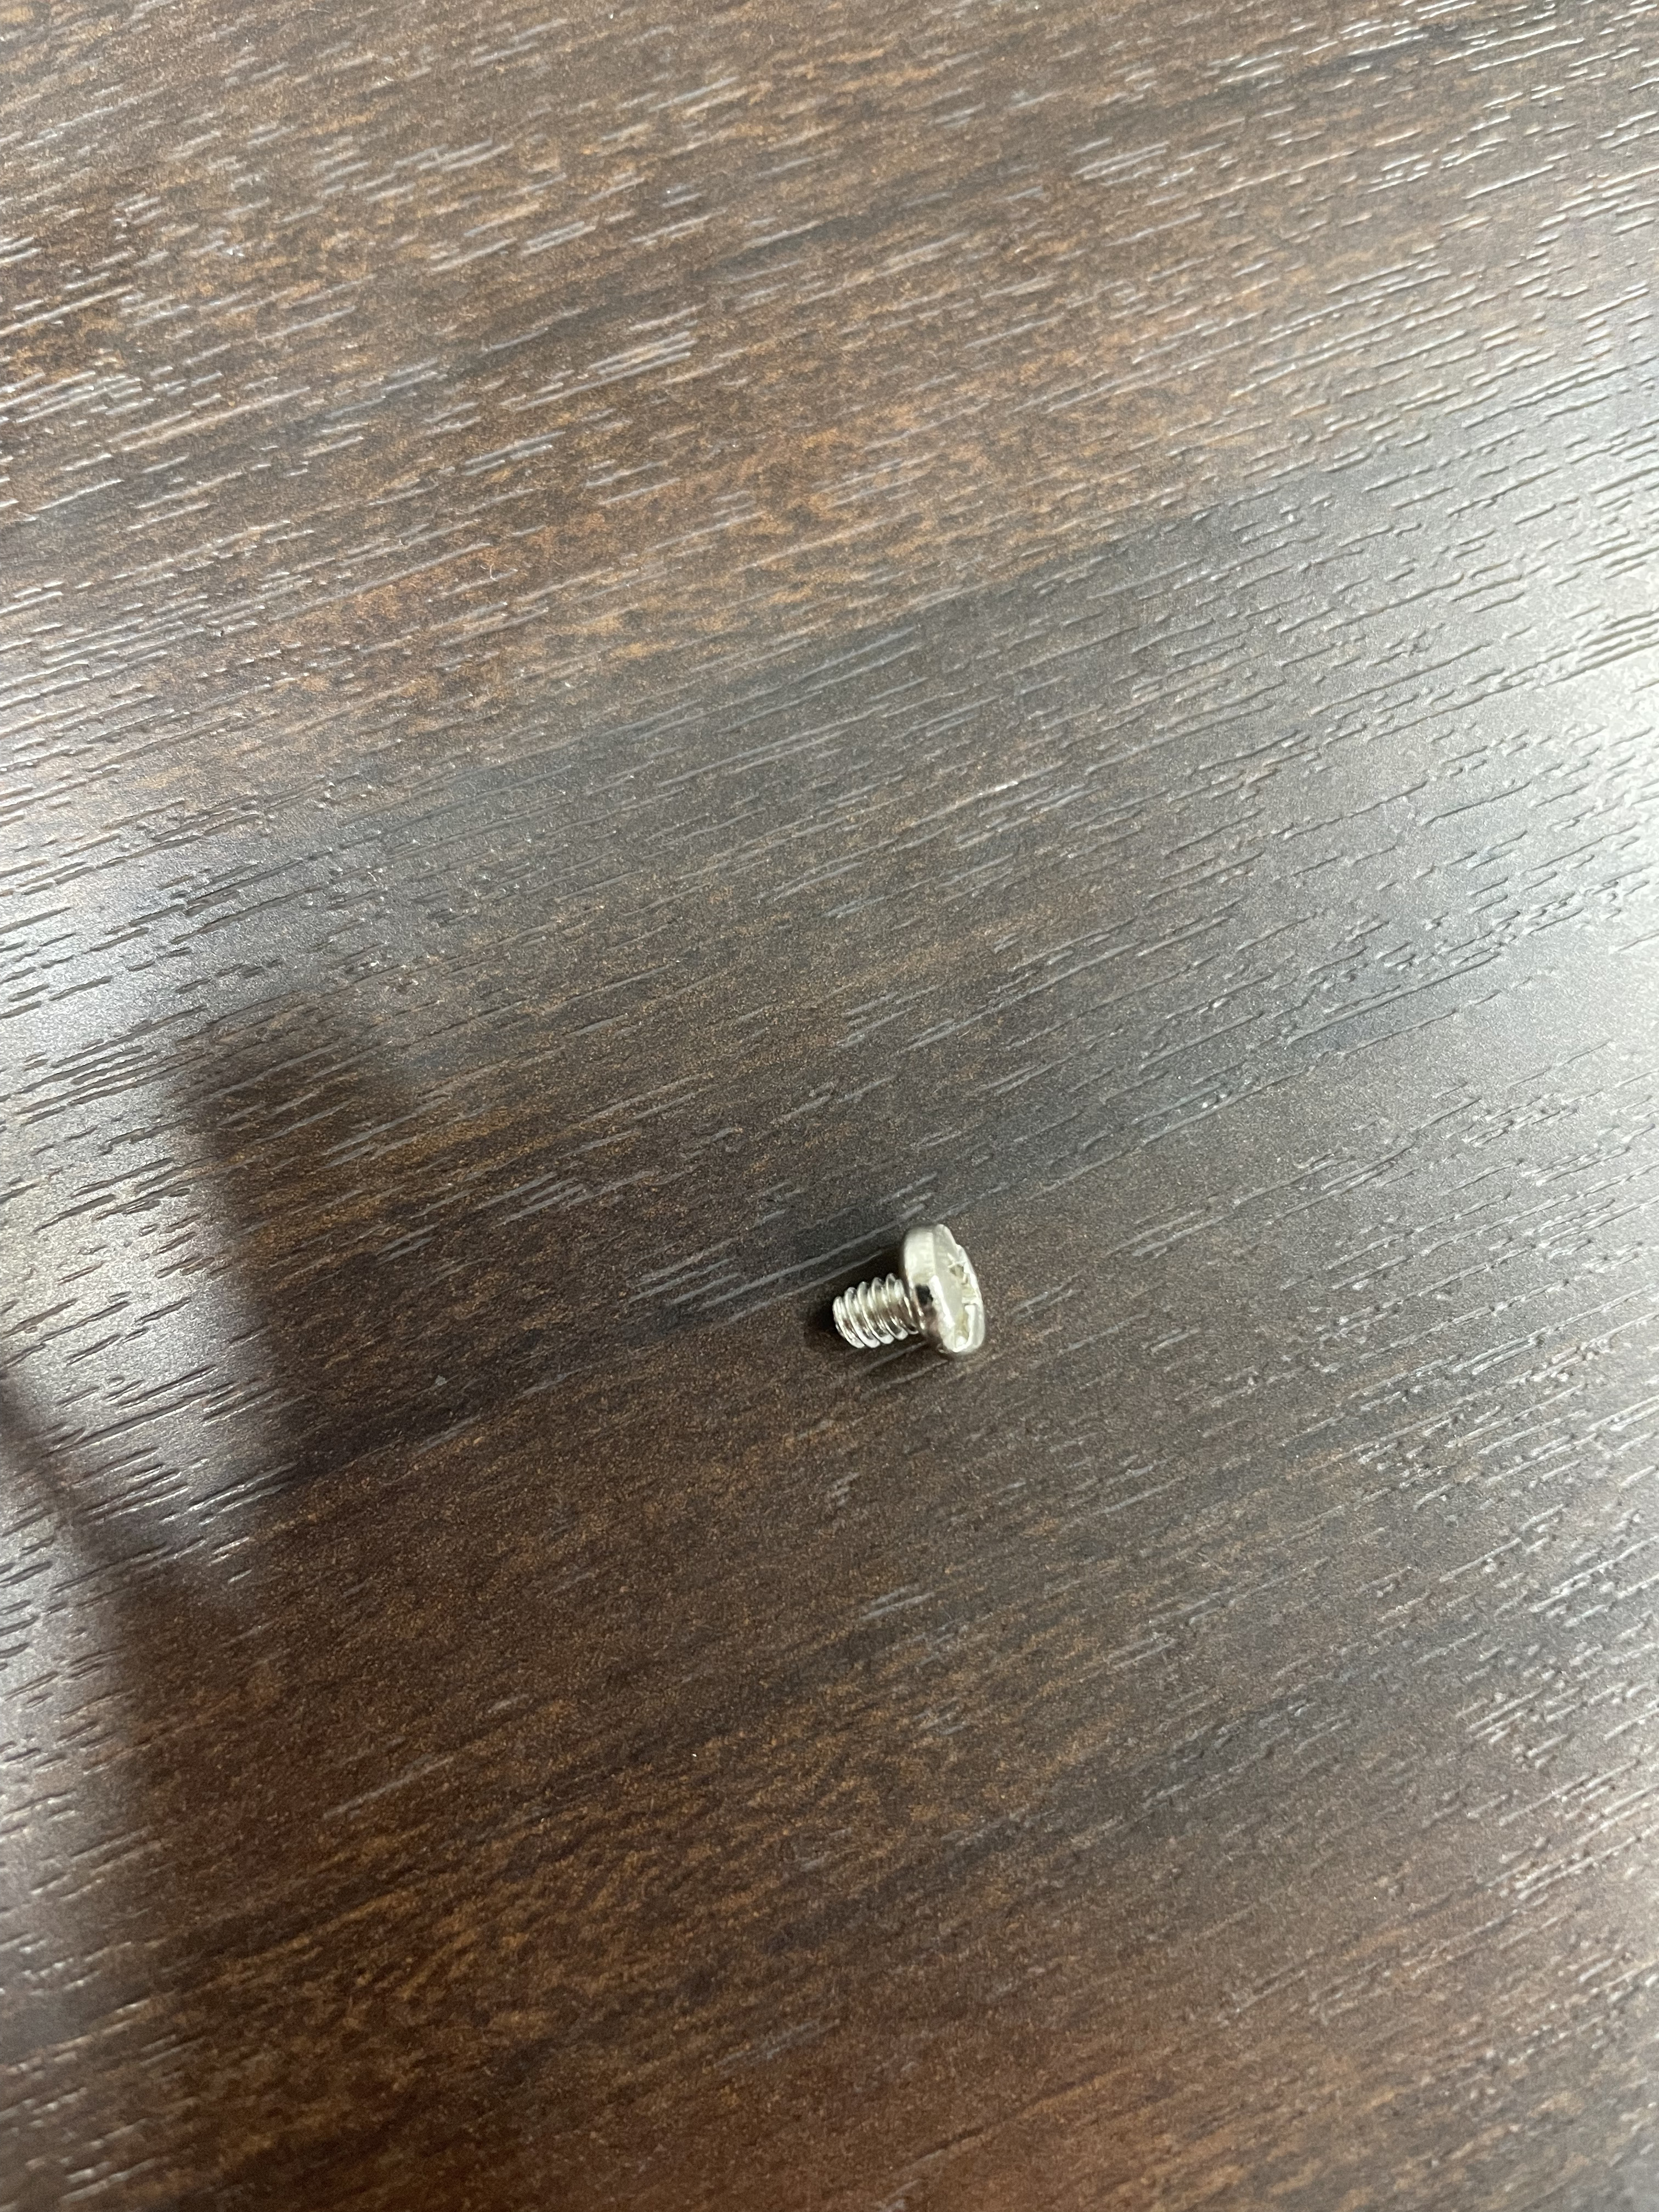screw4: (837, 1220, 989, 1369)
